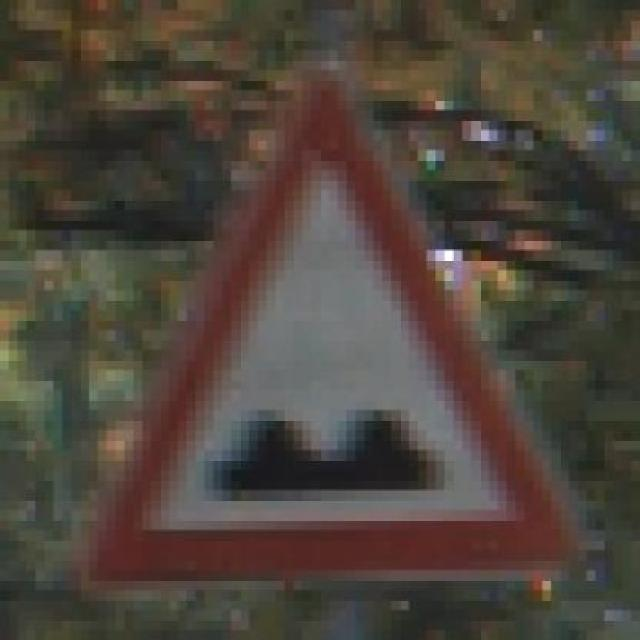Uneven Road: (62, 60, 587, 580)
